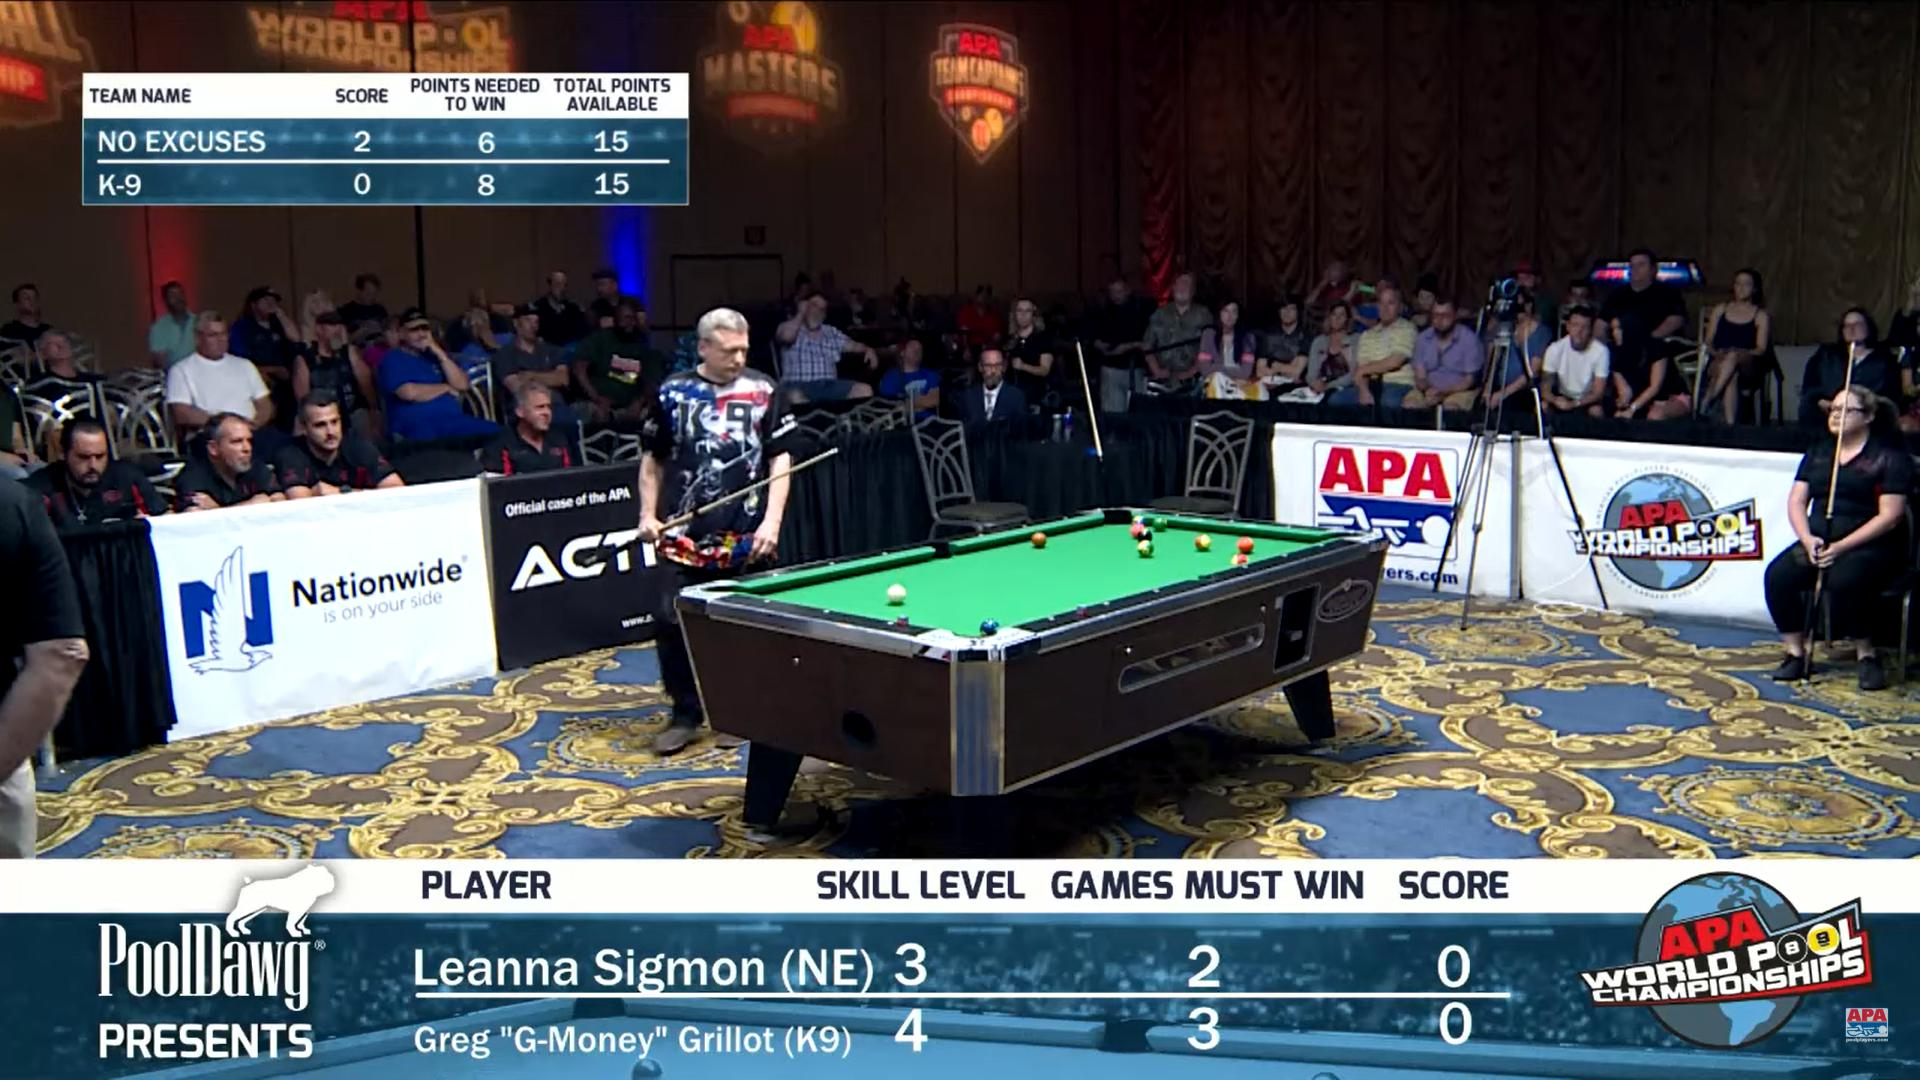Black: (1137, 529, 1153, 542)
Cue: (886, 583, 906, 604)
Dot: (1100, 599, 1114, 609), (1149, 585, 1163, 596), (1238, 562, 1253, 572), (1278, 550, 1292, 560), (1224, 516, 1238, 526), (975, 530, 989, 541), (760, 596, 774, 607), (1315, 539, 1328, 550), (819, 605, 832, 616), (1044, 615, 1059, 624), (1282, 522, 1296, 531), (1058, 513, 1072, 522), (1018, 521, 1033, 530), (877, 549, 891, 558), (824, 559, 839, 568), (767, 570, 782, 579), (884, 618, 898, 628), (1170, 510, 1183, 520)
Solid: (980, 618, 1000, 637), (1237, 537, 1254, 554), (1130, 524, 1146, 539), (1153, 516, 1167, 531), (1031, 531, 1046, 547)
Striped: (1195, 533, 1212, 551), (1138, 539, 1154, 558), (1232, 554, 1249, 566), (1131, 516, 1147, 526)
